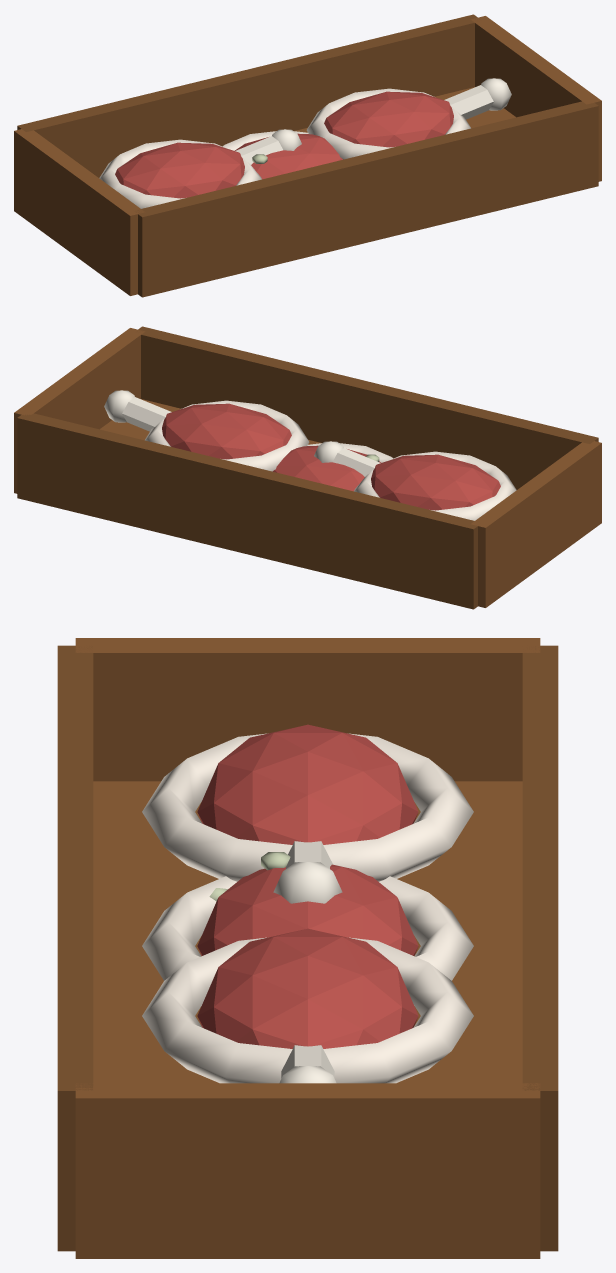
Rendered from Meat_Mutton.fbx.
3 renders of one model, top to bottom at view 1: azimuth 30°, elevation 25°; view 2: azimuth 150°, elevation 25°; view 3: azimuth 270°, elevation 25°, orthographic. The views are drawn at different scales.
Visible parts, largest first — view 1: Meat_Mutton__Stack, Meat_Mutton; view 2: Meat_Mutton__Stack, Meat_Mutton; view 3: Meat_Mutton__Stack, Meat_Mutton.
Boxes of the visible parts, <box> form: Meat_Mutton__Stack: <box>14,14,601,297</box>; Meat_Mutton: <box>223,131,342,179</box>; Meat_Mutton__Stack: <box>14,326,601,609</box>; Meat_Mutton: <box>273,443,392,491</box>; Meat_Mutton__Stack: <box>57,638,558,1258</box>; Meat_Mutton: <box>142,864,473,980</box>.
Size of the model in its own units: 0.2461 by 0.04 by 0.113.
